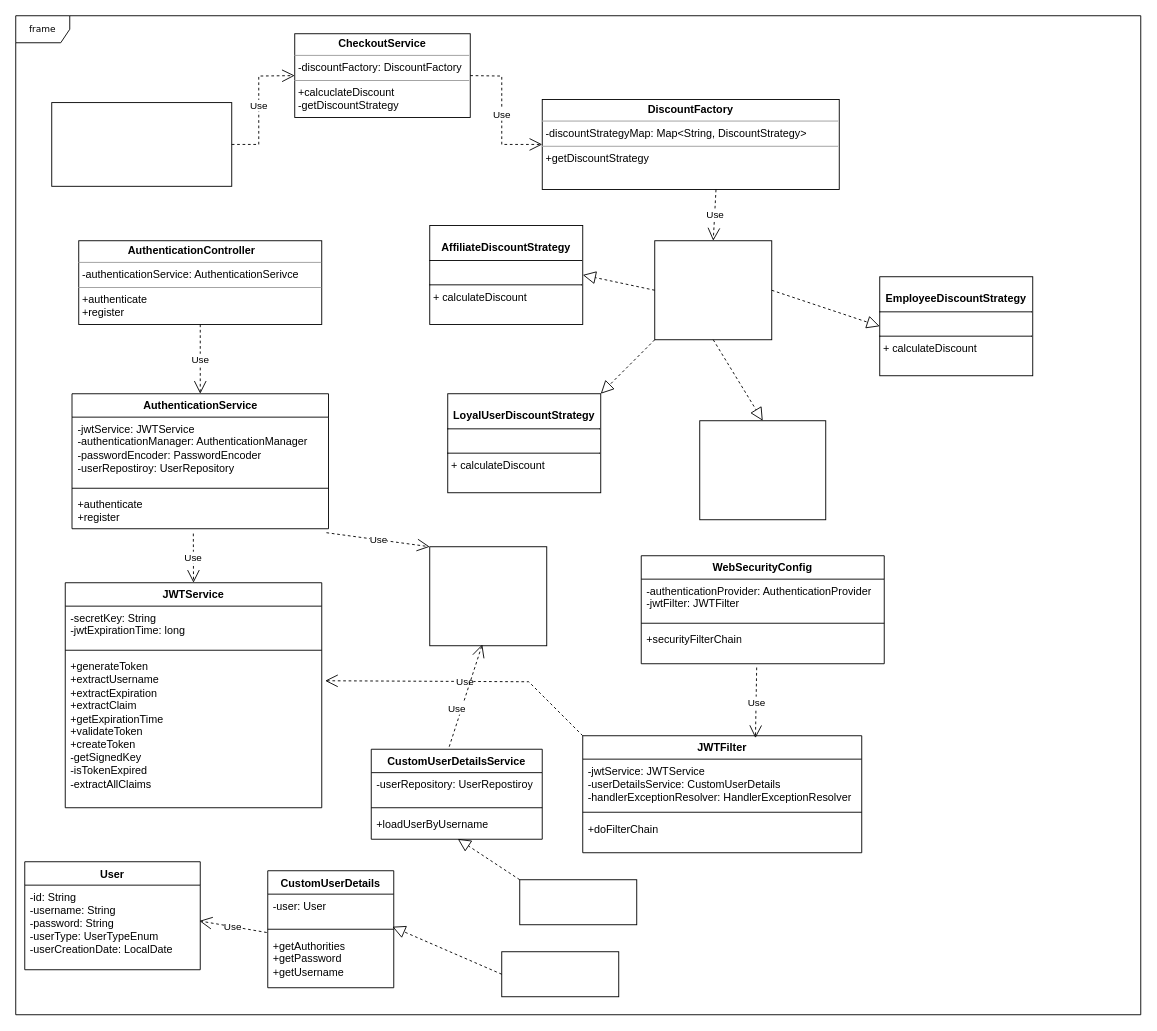
This 1157x1031 diagram has some shape labels left out. The centre of each missing label's shape, as x and y in pixels:
<<Interface>> DiscountStrategy + calculateDiscount: (x=713, y=290)
<<Interface>> UserDetails: (x=560, y=974)
<<Interface>> UserDetailsService: (x=578, y=902)
<<Interface>> UserRepository + findByUsername: (x=488, y=596)
CheckoutController -checkoutService: DiscountService +calcuclateDiscountForBill: (x=141, y=144)
NoDiscountStrategy + calculateDiscount: (x=762, y=470)
